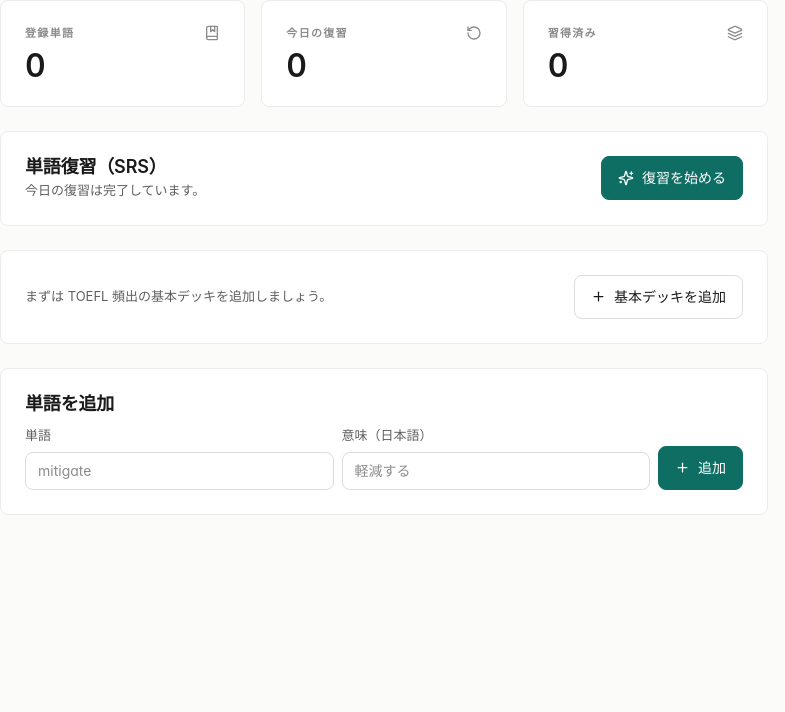
Test: Vocabulary screen › seeds the base deck and lists words
Step 1. Click the button "基本デッキを追加" → [658, 297], box x1=574 y1=275 x2=743 y2=319
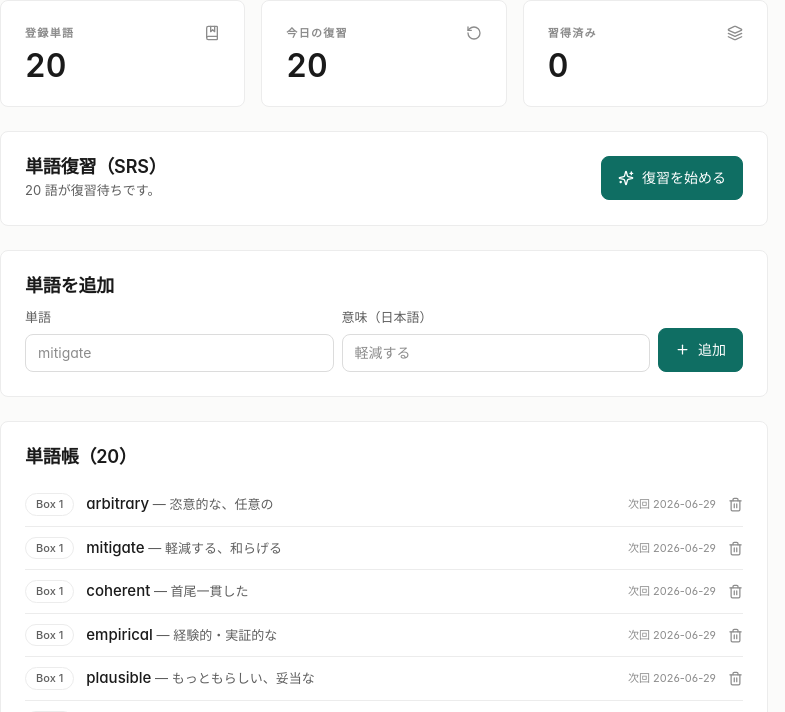
Result: the text "mitigate" is shown at x1=86 y1=538 x2=145 y2=557
